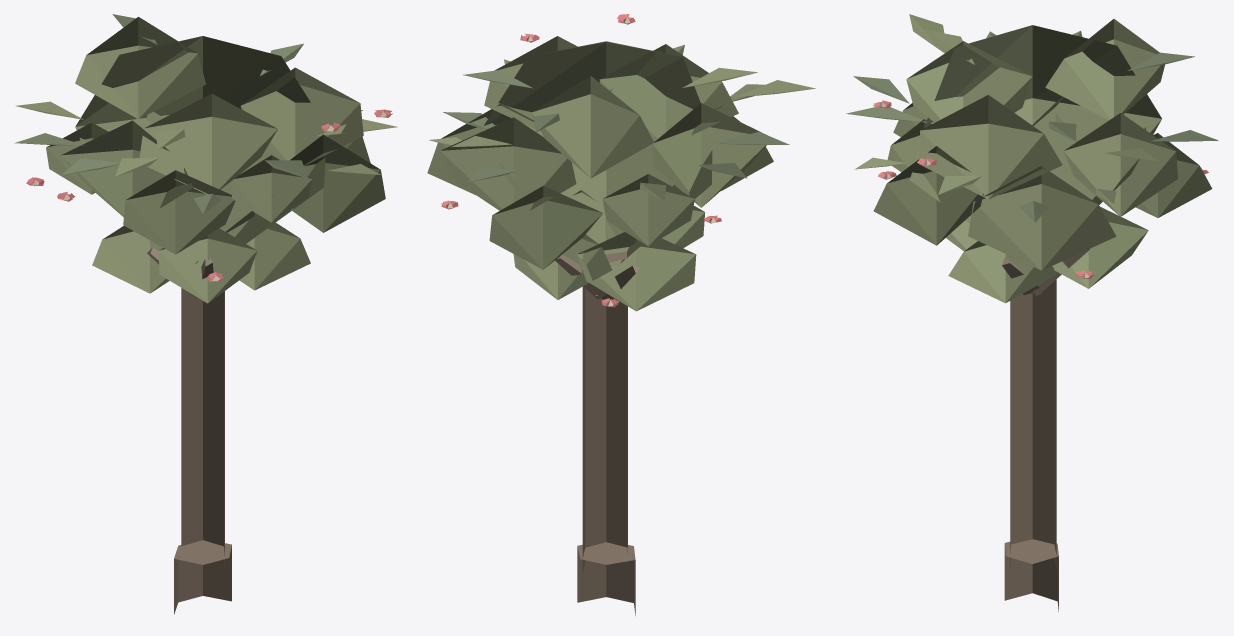
File: shu.mumian__winter.glb
3 renders of one model, left to right at view 1: azimuth 30°, elevation 25°; view 2: azimuth 150°, elevation 25°; view 3: azimuth 270°, elevation 25°, orthographic.
Parts seen in each view (by area): view 1: shu.mumian__winter; view 2: shu.mumian__winter; view 3: shu.mumian__winter.
Part boxes in pixels (x1,y1,x2,y2): shu.mumian__winter: (14, 14, 397, 614); shu.mumian__winter: (427, 14, 815, 615); shu.mumian__winter: (846, 14, 1218, 611).
Bounding box in the file's own units: 18.3 × 30.34 × 17.84.
